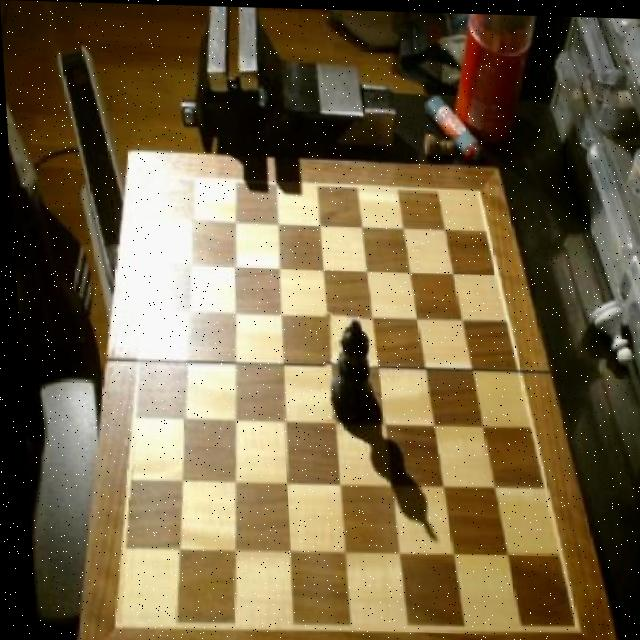black-bishop: (317, 312, 371, 424)
